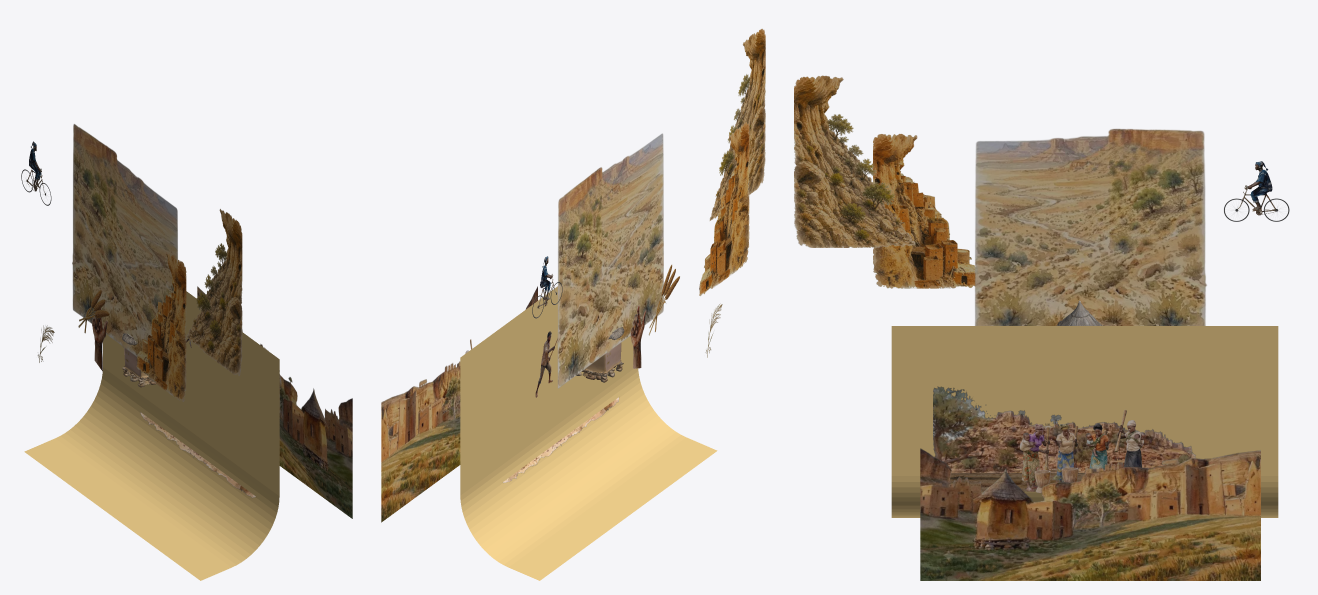
Rendered from scene-bananin-mobile.glb.
3 views of the same model, side by side, from view 1: azimuth 30°, elevation 25°; view 2: azimuth 150°, elevation 25°; view 3: azimuth 270°, elevation 25° (orthographic). The views are drawn at different scales.
Parts seen in each view (by area): view 1: Plane.002, image-removebg-preview, image-removebg-preview (1), les roches-no-bg, la falaise-no-bg, Gemini_Generated_Image_6vfklx6vfklx6vfk-removebg-preview, image-removebg-preview (4), image-removebg-preview (1).001; view 2: Plane.002, image-removebg-preview, image-removebg-preview (1), la falaise-no-bg, les roches-no-bg, Gemini_Generated_Image_6vfklx6vfklx6vfk-removebg-preview, Wall, image-removebg-preview (4); view 3: Plane.002, image-removebg-preview, image-removebg-preview (1), les roches-no-bg, Gemini_Generated_Image_6vfklx6vfklx6vfk-removebg-preview, la falaise-no-bg, Gemini_Generated_Image_6eon6d6eon6d6eon-removebg-preview.
Boxes of the visible parts, x1,y1,x2,y2 form: Plane.002: [24, 291, 279, 580]; image-removebg-preview: [72, 124, 177, 356]; image-removebg-preview (1): [197, 286, 352, 518]; les roches-no-bg: [187, 209, 242, 375]; la falaise-no-bg: [136, 251, 186, 401]; Gemini_Generated_Image_6vfklx6vfklx6vfk-removebg-preview: [140, 412, 255, 497]; image-removebg-preview (4): [92, 308, 105, 371]; image-removebg-preview (1).001: [78, 290, 109, 333]; Plane.002: [460, 286, 717, 580]; image-removebg-preview: [557, 133, 663, 388]; image-removebg-preview (1): [381, 286, 537, 522]; la falaise-no-bg: [699, 122, 749, 296]; les roches-no-bg: [709, 28, 765, 220]; Gemini_Generated_Image_6vfklx6vfklx6vfk-removebg-preview: [503, 397, 618, 482]; Wall: [584, 342, 621, 373]; image-removebg-preview (4): [630, 305, 644, 368]; Plane.002: [891, 326, 1278, 517]; image-removebg-preview: [974, 128, 1206, 325]; image-removebg-preview (1): [920, 448, 1260, 580]; les roches-no-bg: [794, 75, 915, 247]; Gemini_Generated_Image_6vfklx6vfklx6vfk-removebg-preview: [933, 386, 1196, 491]; la falaise-no-bg: [873, 133, 975, 288]; Gemini_Generated_Image_6eon6d6eon6d6eon-removebg-preview: [1019, 420, 1145, 493].
Bounding box in the file's own units: 12.08 × 21.88 × 20.23.
24 materials, 23 textured.
